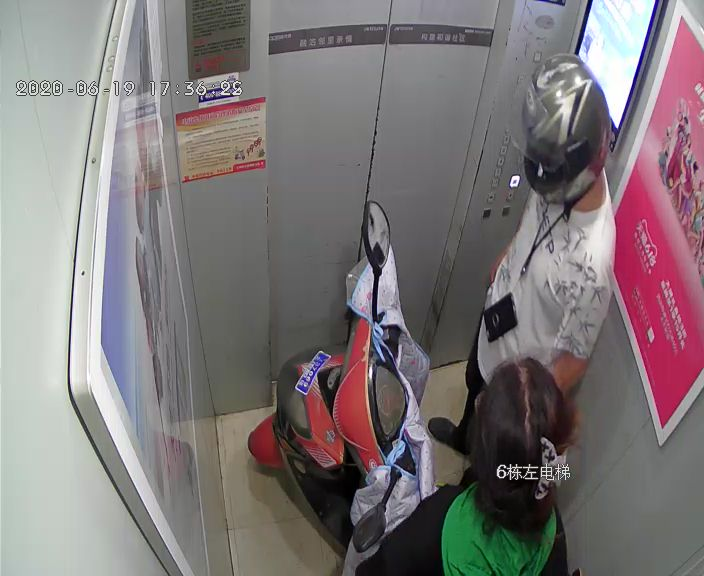Electric-bicycle: (249, 200, 427, 549)
